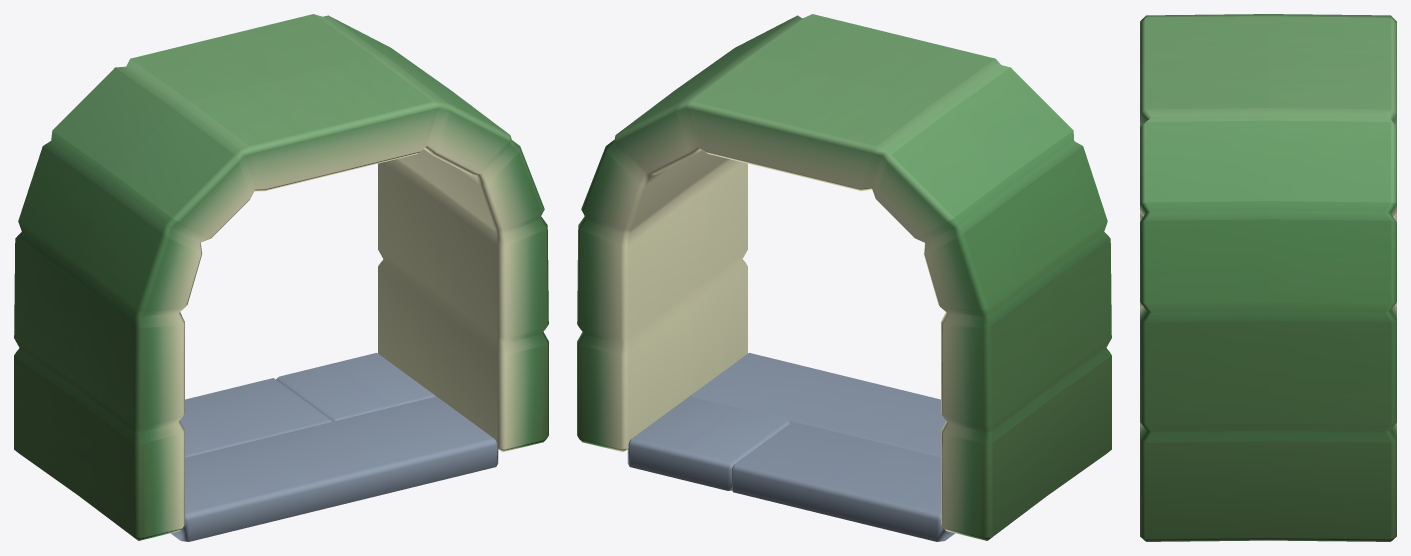
The model's file is doorway_entrance_light_archway.fbx.
3 views of the same model, side by side, from view 1: azimuth 30°, elevation 25°; view 2: azimuth 150°, elevation 25°; view 3: azimuth 270°, elevation 25° (orthographic). The views are drawn at different scales.
Visible parts, largest first — view 1: doorway_entrance_light_archway; view 2: doorway_entrance_light_archway; view 3: doorway_entrance_light_archway.
Boxes of the visible parts, bbox=[...] form: doorway_entrance_light_archway: bbox=[14, 14, 548, 541]; doorway_entrance_light_archway: bbox=[577, 14, 1111, 541]; doorway_entrance_light_archway: bbox=[1140, 14, 1396, 541].
Bounding box in the file's own units: 402 × 353 × 210.
